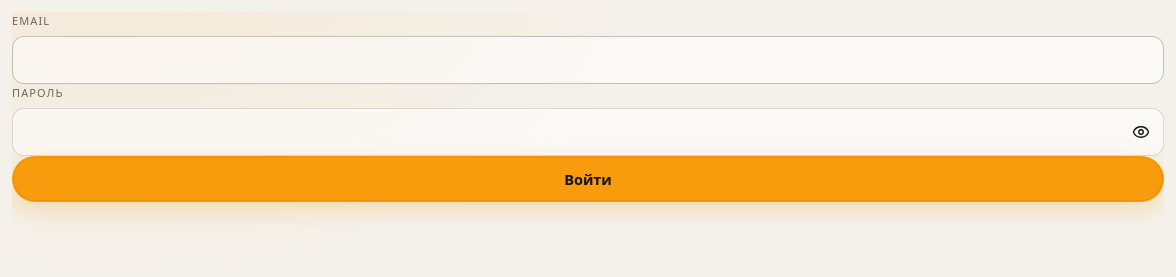
Test: форма входа › ошибка сервера — внутри формы над «Войти», email остаётся после сброса формы
In the field labelled "Email": (588, 60) [12, 36, 1164, 84], type "dilnoza@vodiyhouse.uz"
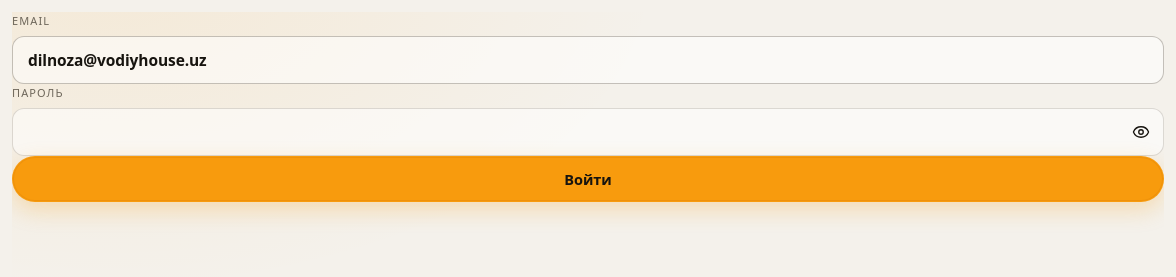
In the password field labelled "Пароль": (588, 132) [12, 108, 1164, 156], type "неверный"
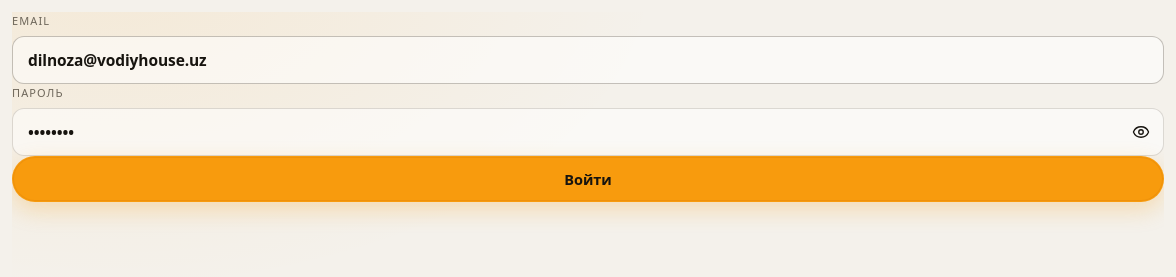
Submit the form "Войти"
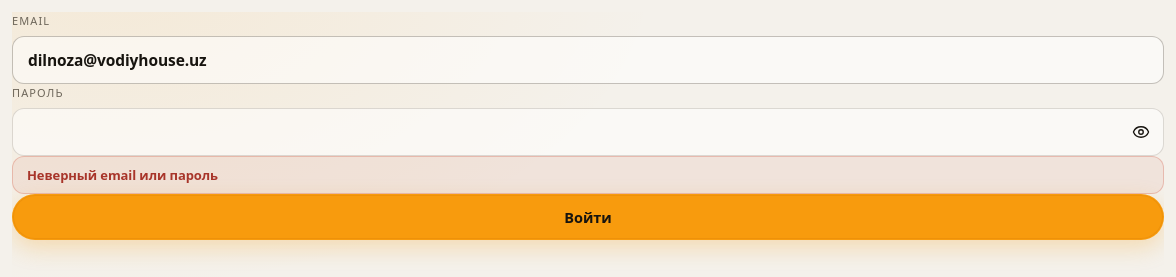
Now the message reads "Неверный email или пароль", box [27, 166, 218, 184]
